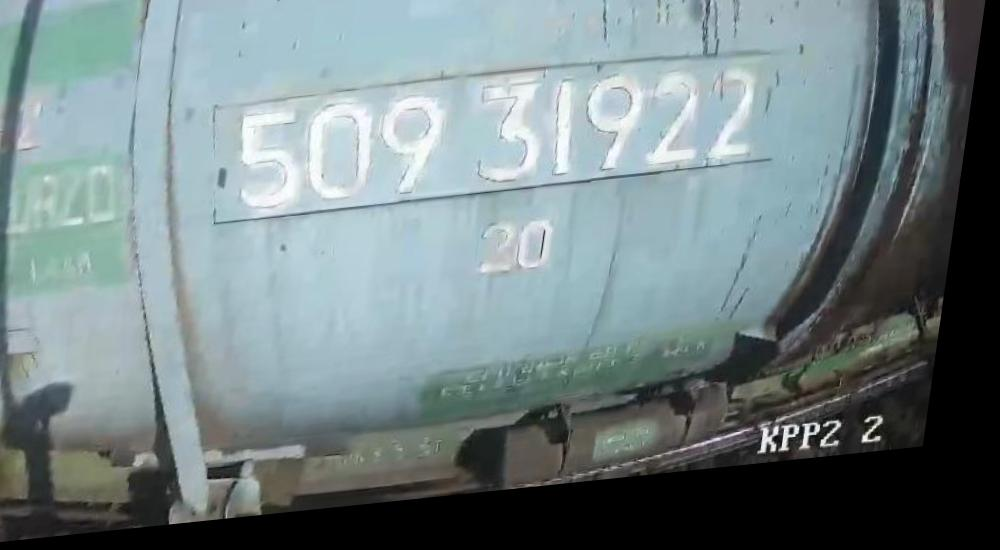Wagon-number: (233, 64, 773, 223)
